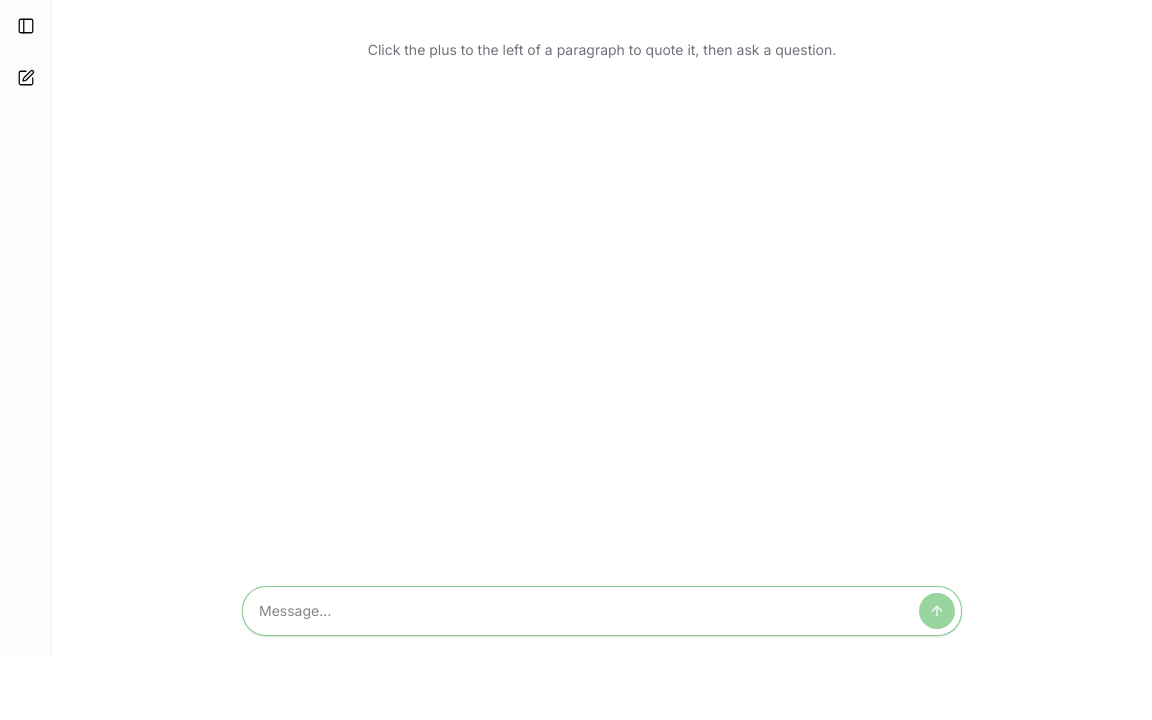
retains unsent content and exposes explicit conflict choices
In the text box labelled "Message": (585, 611) [259,593,911,629], type "Local copy"
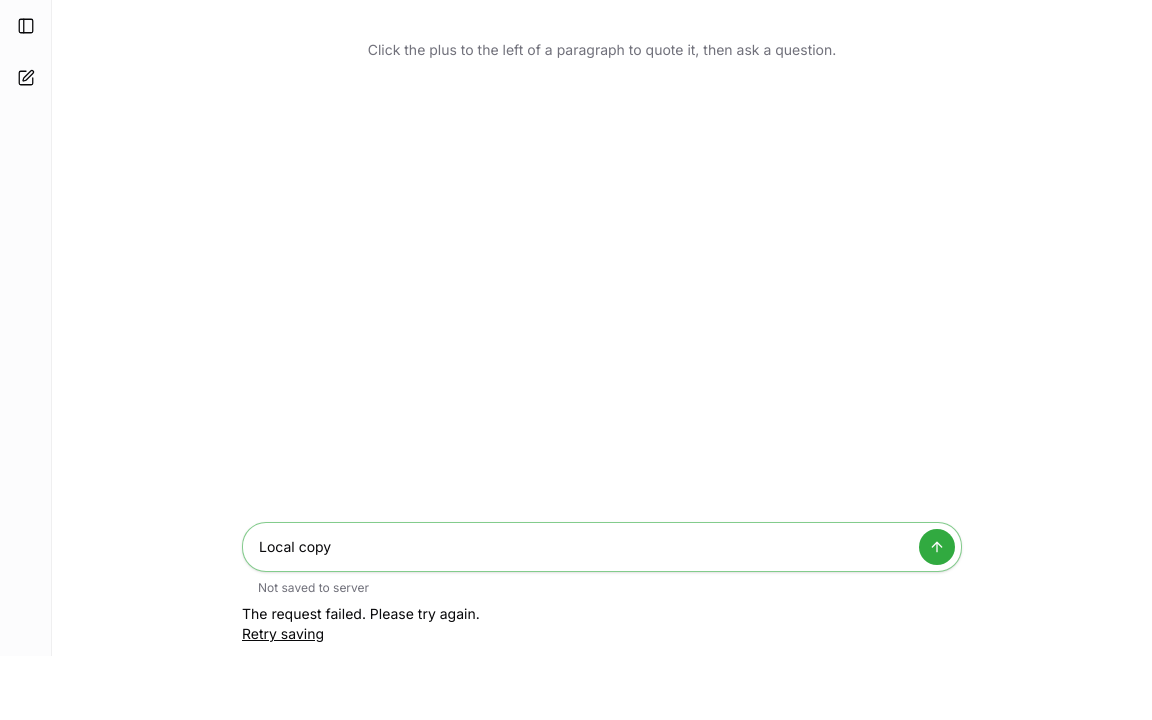
Expected: the text "Not saved to server" is shown, [258,580,369,595]
